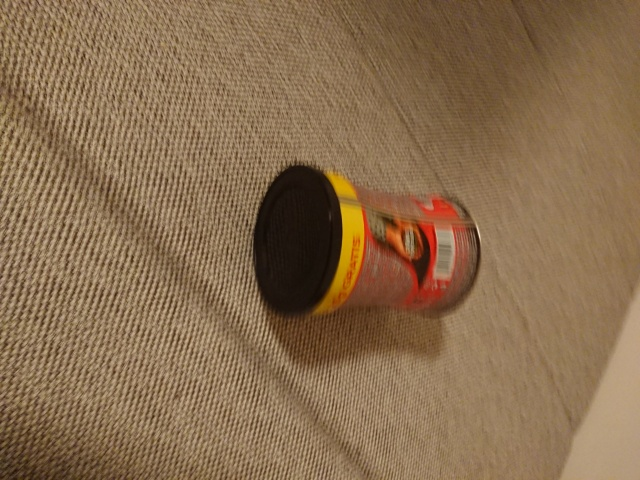Nescafe Classic 225g: (249, 162, 483, 324)
